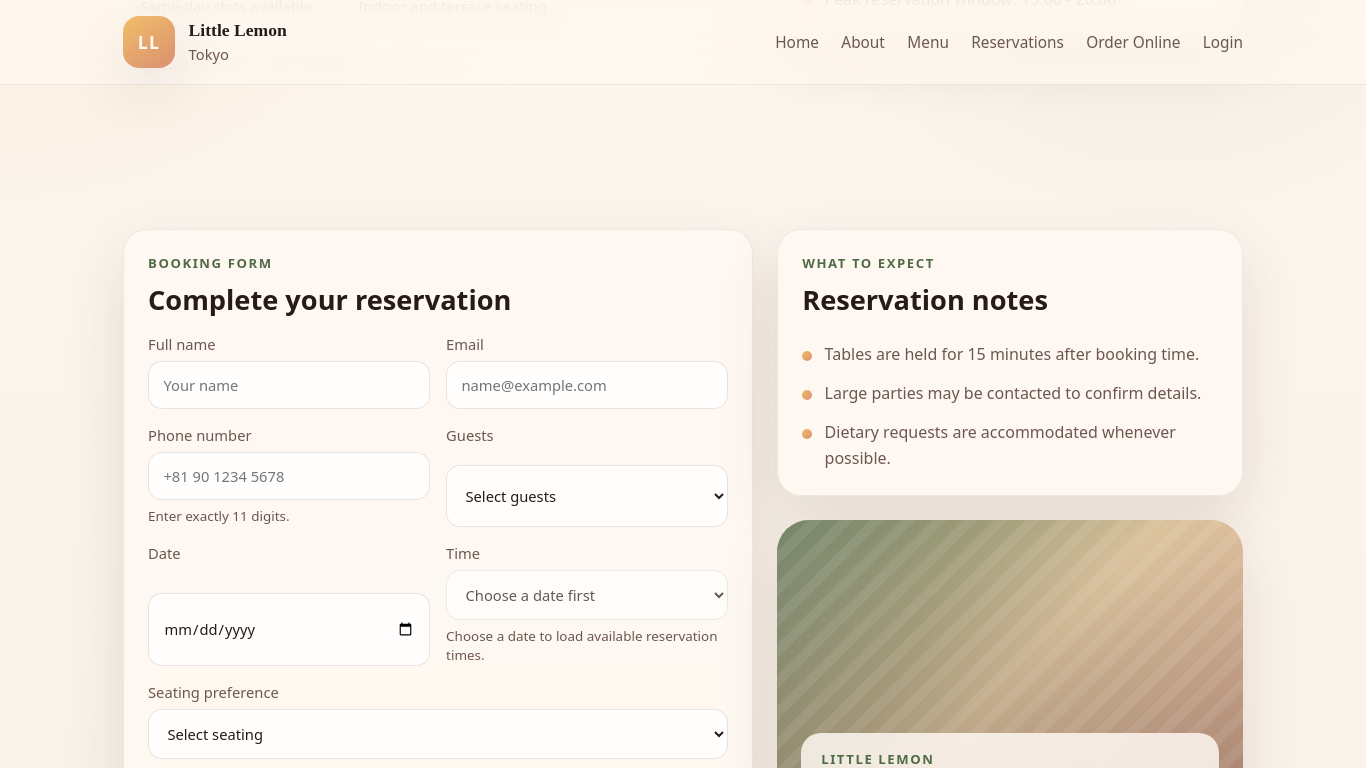
special requests is optional and the form can submit without it
(page scrolled)
Type "Alex Chen" into the field labelled "Full name" at (289, 385), box x1=148 y1=361 x2=430 y2=409
Type "alex@example.com" into the field labelled "Email" at (587, 385), box x1=446 y1=361 x2=728 y2=409
Type "09012345678" into the field labelled "Phone number Enter exactly 11 digits." at (289, 476), box x1=148 y1=452 x2=430 y2=500
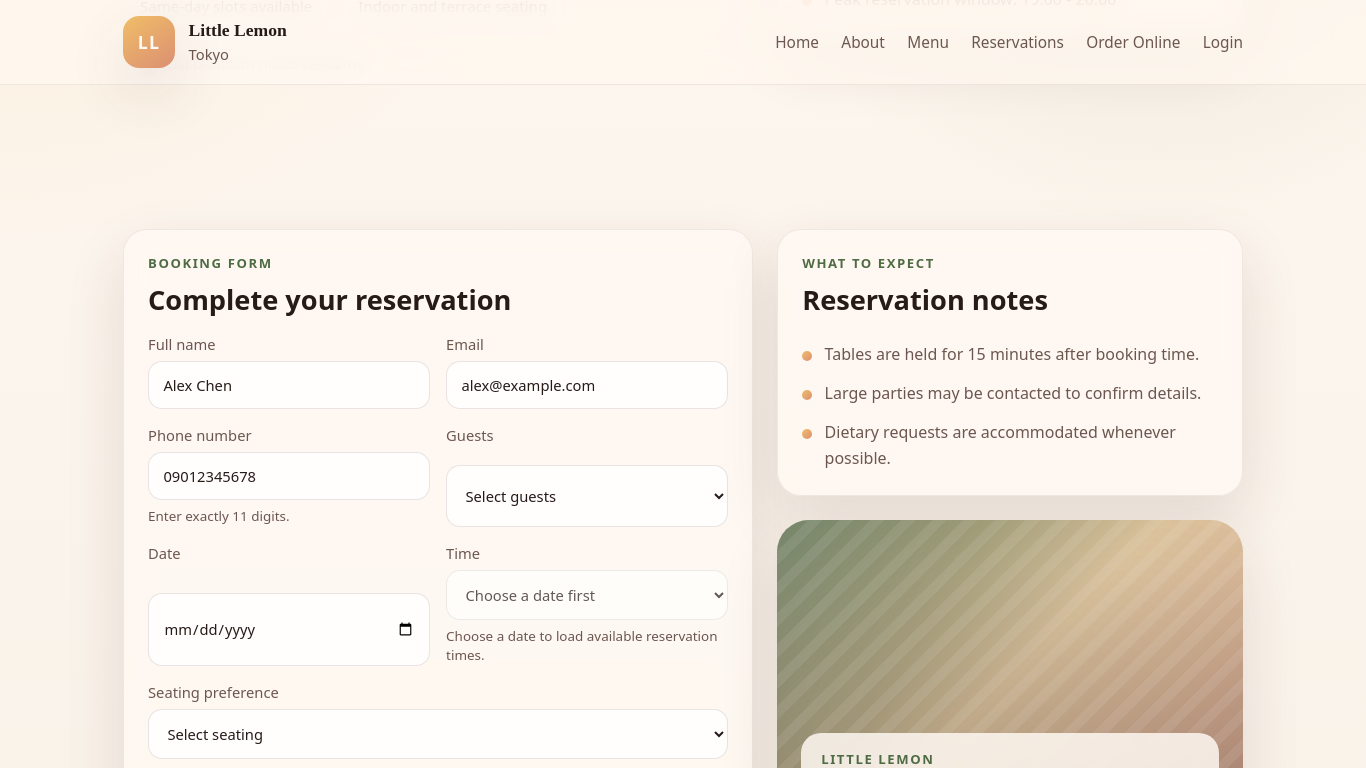
Select "2 guests" in the dropdown labelled "Guests" at (587, 496), box x1=446 y1=465 x2=728 y2=527
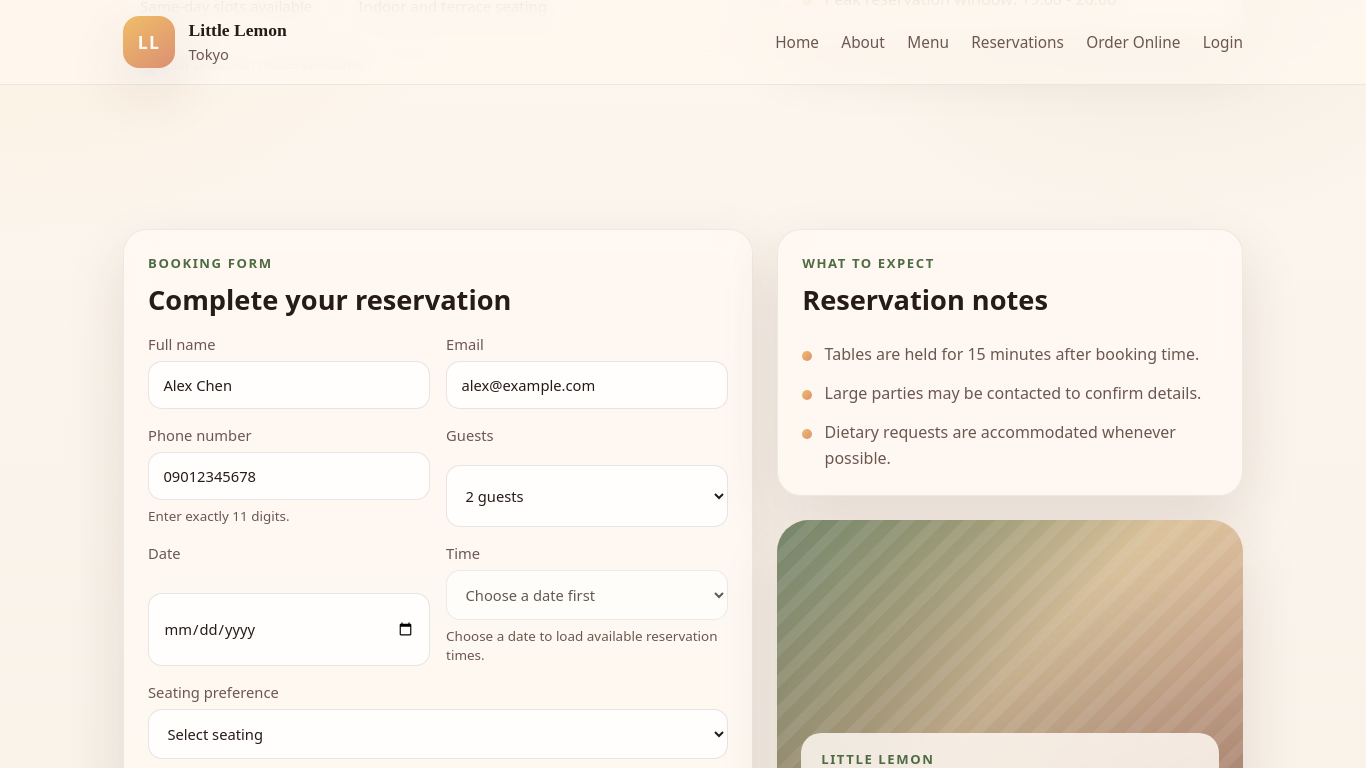
Select "Indoor dining room" in the dropdown labelled "Seating preference" at (438, 734), box x1=148 y1=709 x2=728 y2=759
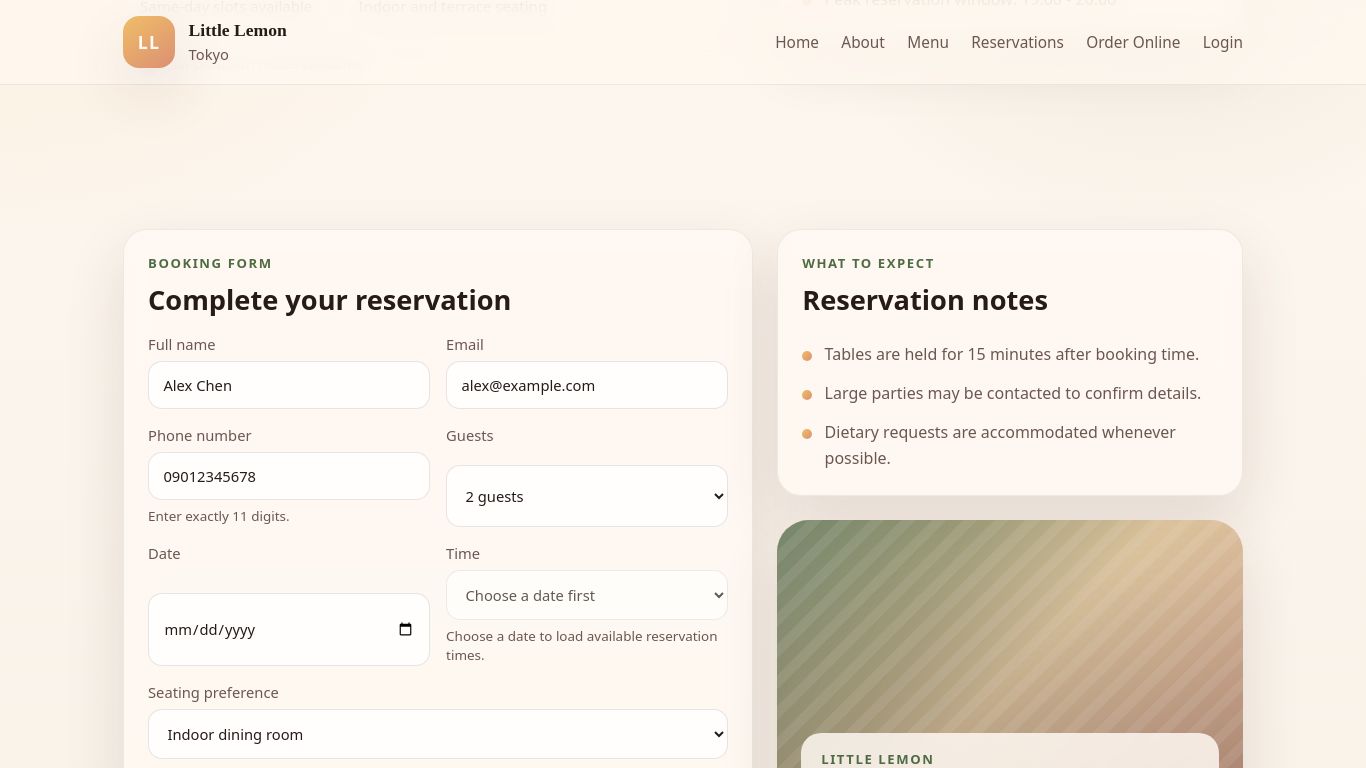
Type "2026-03-21" into the date field with id "date" at (289, 629), box x1=148 y1=593 x2=430 y2=666
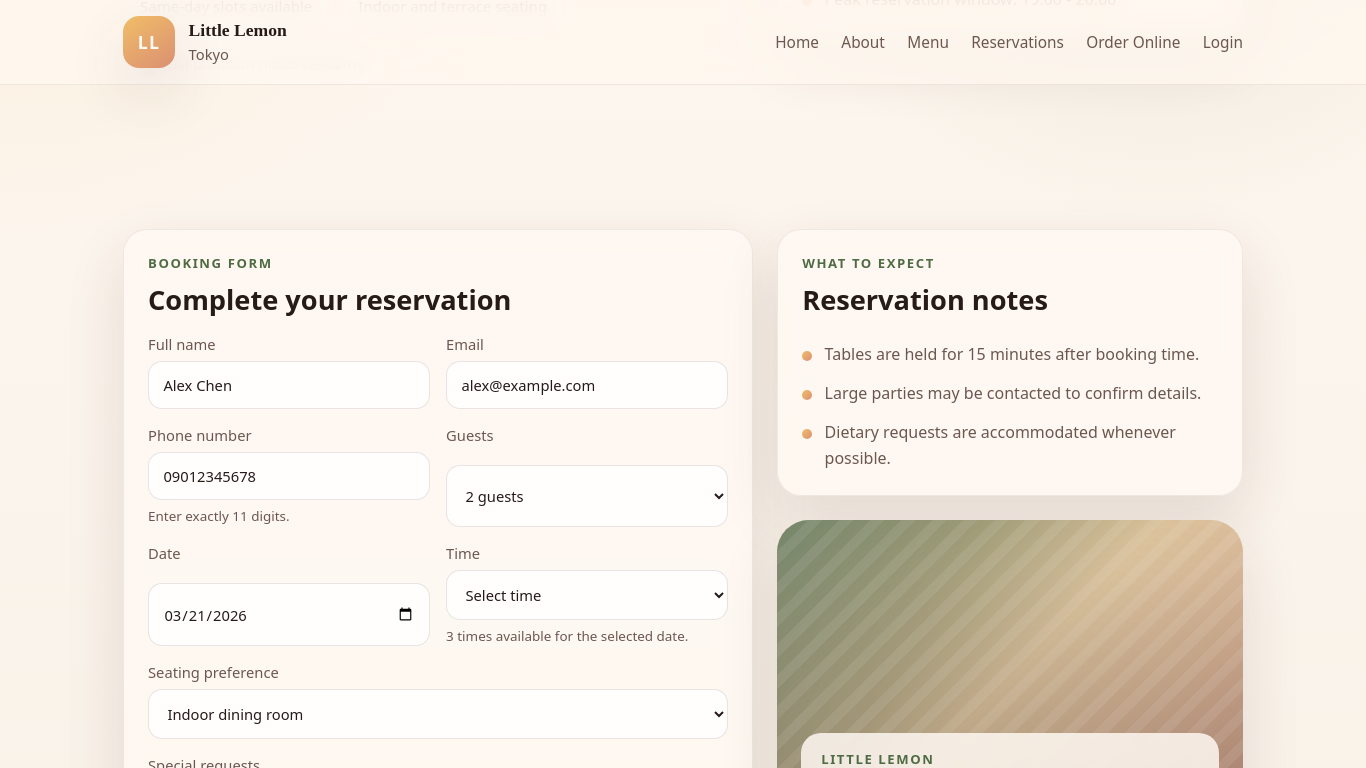
Select "19:00" in the dropdown with id "time" at (587, 595), box x1=446 y1=570 x2=728 y2=620
(page scrolled)
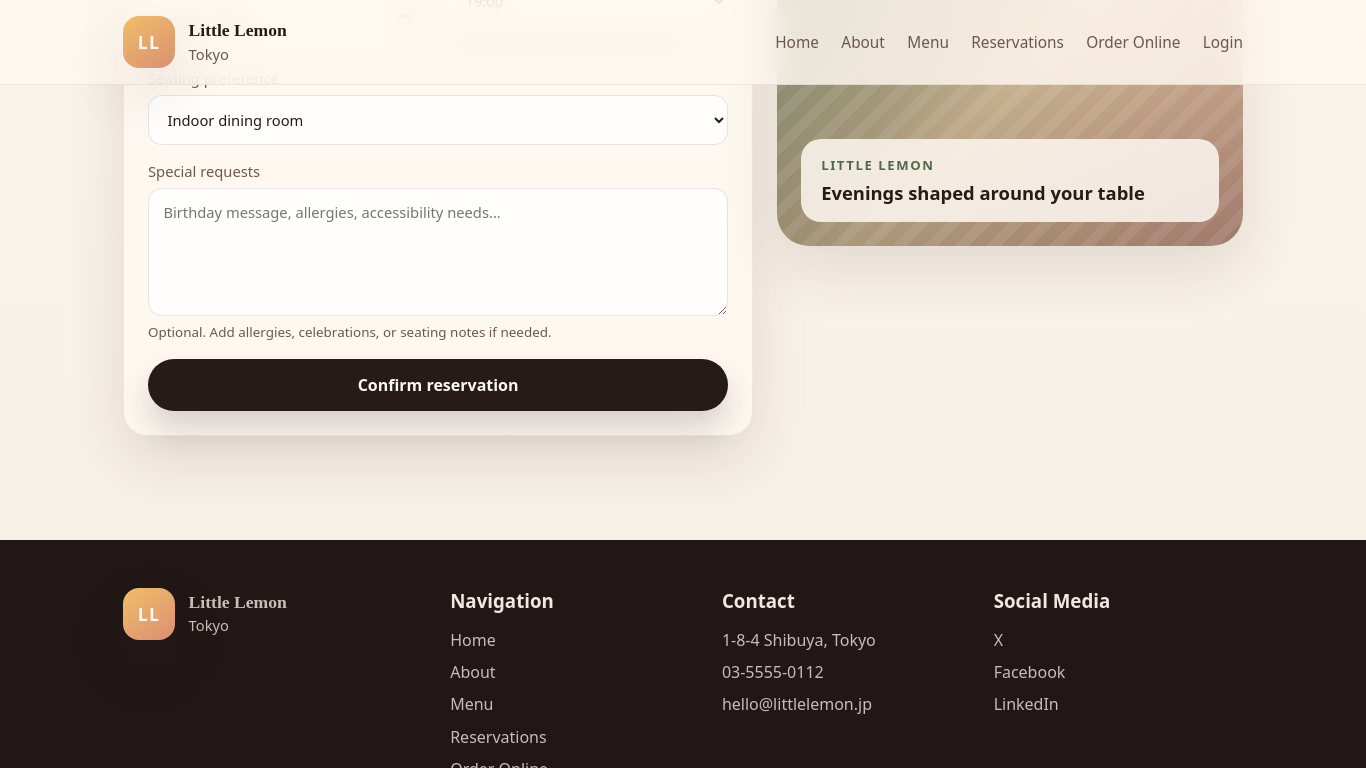
Expected: the button "Confirm reservation" is enabled
Click the button "Confirm reservation" at (438, 384), box x1=148 y1=358 x2=728 y2=410
(page scrolled)
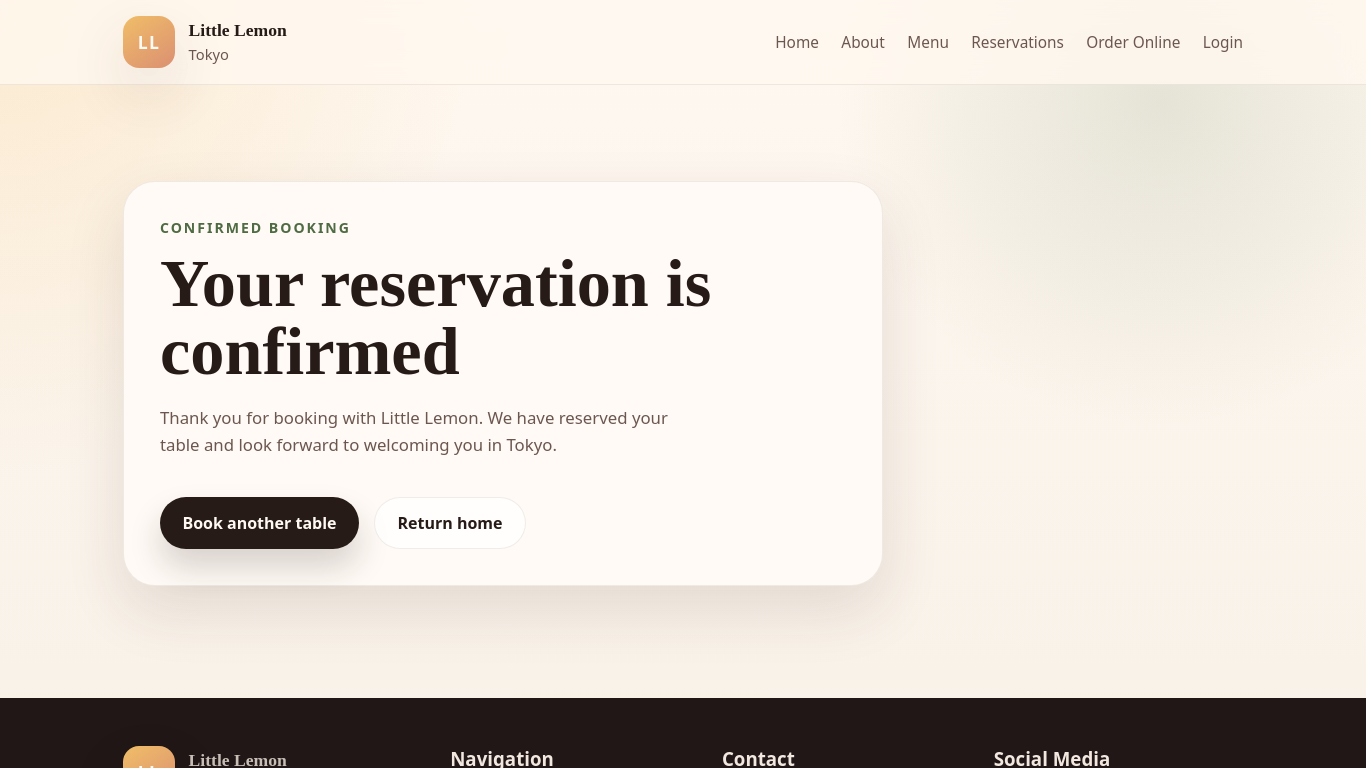
Expected: the heading "Your reservation is confirmed" is shown, x1=160 y1=245 x2=711 y2=389
